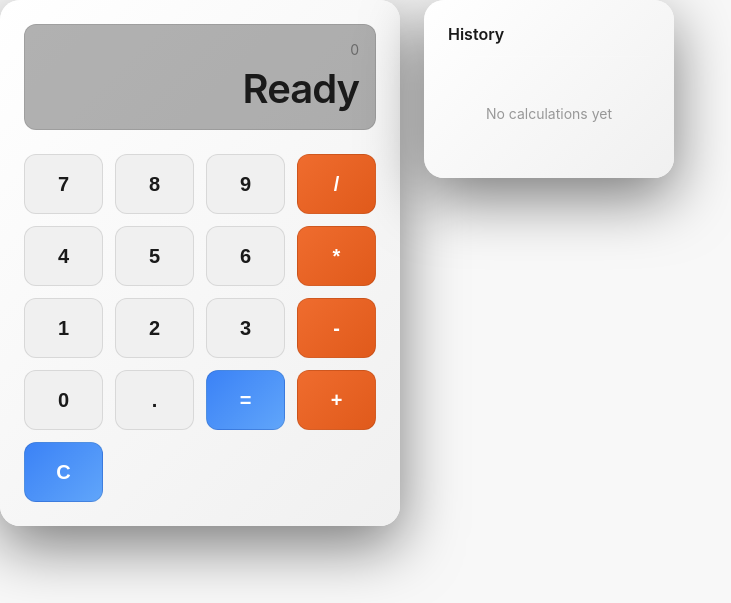
Test case: Calculator Component - Basic Interactions › should update display when number button is clicked
The width and height of the screenshot is (731, 603).
// Click number 5
What coordinates should you click on to do the following:
click the button named "digit 5"
I would click on:
 (154, 256)
Its box is top-left (115, 226), bottom-right (194, 286).
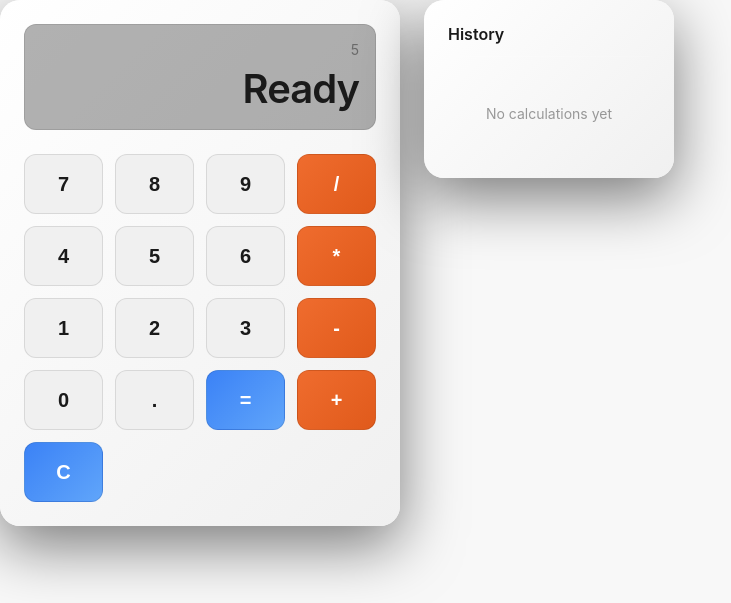
Now the message named "Calculator display" shows "5", box top-left (351, 41), bottom-right (359, 58)
